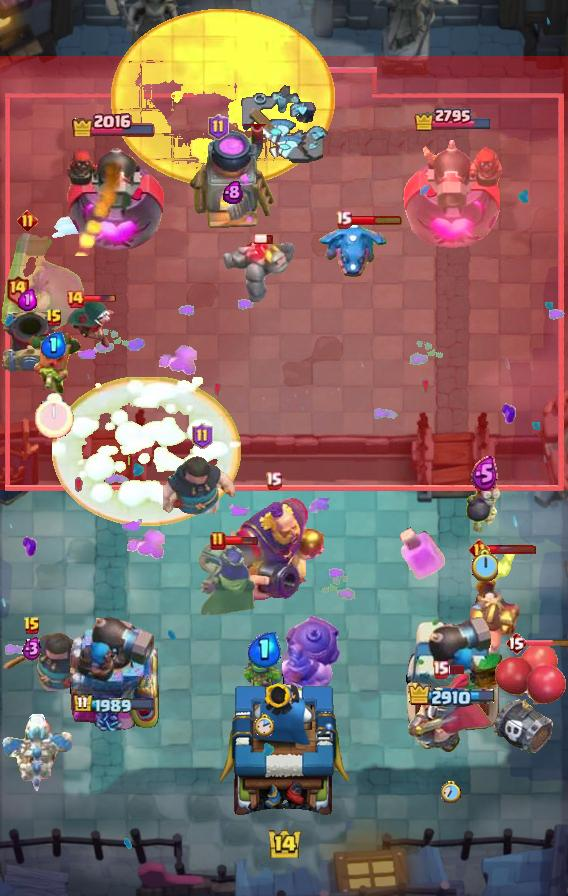barbarian-hut: (193, 537, 259, 619)
bomber: (473, 552, 517, 598)
electro-spirit: (248, 632, 282, 668), (471, 457, 498, 491), (41, 333, 67, 360), (22, 635, 42, 660), (223, 180, 243, 204), (19, 289, 38, 311)
elixir: (34, 393, 73, 439), (471, 549, 498, 581), (255, 714, 275, 739), (441, 781, 461, 803)
emote: (350, 214, 403, 226), (487, 544, 537, 555), (524, 637, 568, 647), (224, 535, 259, 547), (83, 294, 117, 304), (254, 233, 274, 245), (446, 665, 466, 676)
freeze: (466, 587, 524, 659)
giant-snowball: (244, 658, 286, 698)
goblin-barrel: (25, 332, 83, 398)
graveyard: (317, 217, 389, 281)
hunter: (188, 124, 278, 232)
ice-golem: (466, 480, 502, 534)
king-tower: (219, 678, 349, 826)
knight-evolution: (400, 528, 446, 581)
lightning: (220, 495, 327, 605)
mini-pekka: (0, 714, 74, 798)
musketeer: (0, 308, 62, 376)
phoenix-big: (50, 377, 241, 526)
phoenix-egg: (111, 9, 335, 187)
royal-hog: (0, 630, 96, 696), (163, 454, 241, 522)
royal-recruit-evolution: (490, 641, 568, 757)
selected: (408, 683, 498, 710), (71, 111, 157, 138), (413, 105, 493, 130), (72, 692, 156, 715)
tesla: (67, 300, 117, 348)
text: (5, 275, 30, 306), (208, 114, 229, 140), (192, 423, 213, 449), (505, 631, 527, 655), (18, 210, 39, 231), (469, 539, 490, 560), (65, 289, 85, 309), (45, 308, 63, 328), (23, 616, 41, 636), (335, 211, 353, 230), (431, 661, 449, 679), (265, 470, 282, 489), (210, 531, 226, 551)
tower-bar: (401, 132, 508, 256), (63, 138, 164, 256), (402, 615, 504, 731), (68, 611, 160, 731)
valkyrie-evolution: (221, 237, 297, 305)
wall-breaker-evolution: (0, 219, 84, 337), (408, 671, 494, 755)
wizard: (261, 614, 343, 728)
